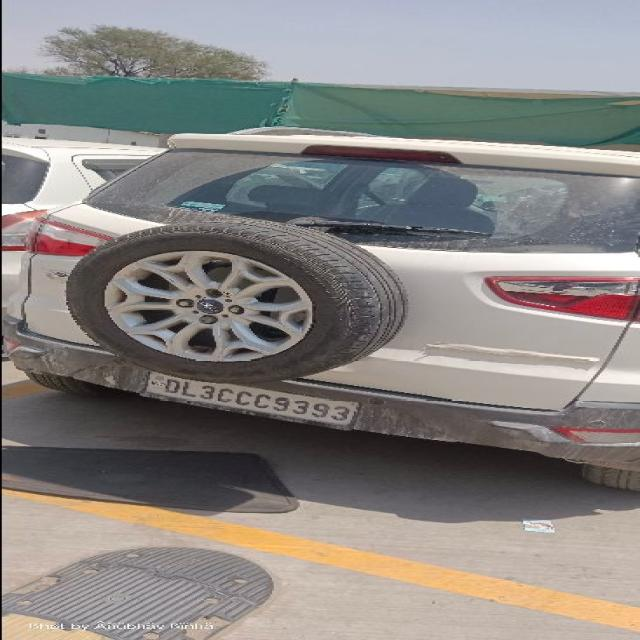license_plate: (141, 370, 359, 426)
